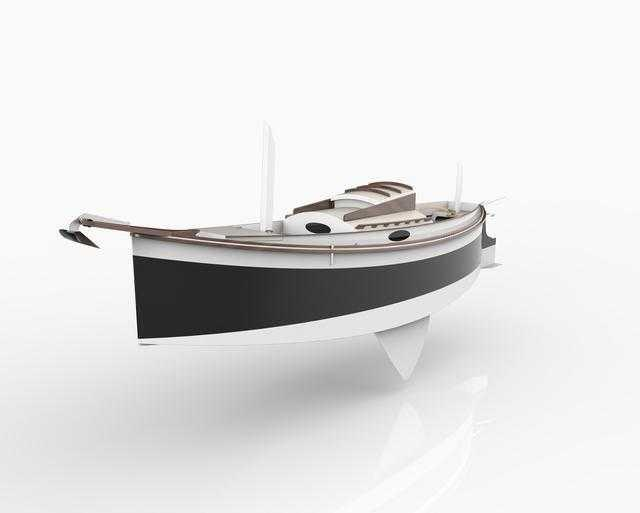kayak: (59, 117, 492, 386)
